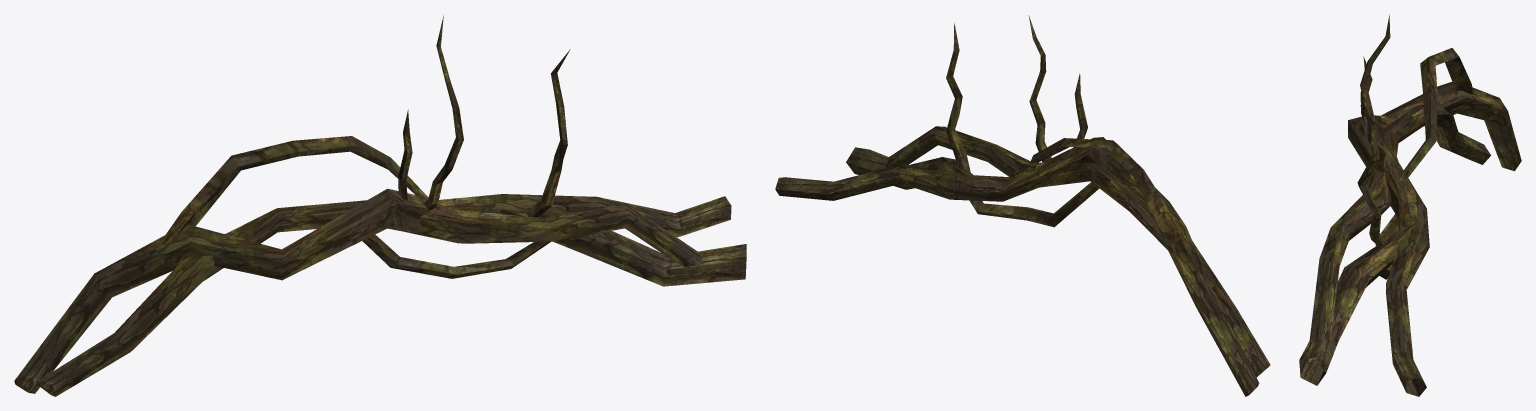
File: BossWood4.fbx
3 views of the same model, side by side, from view 1: azimuth 30°, elevation 25°; view 2: azimuth 150°, elevation 25°; view 3: azimuth 270°, elevation 25° (orthographic). The views are drawn at different scales.
Parts seen in each view (by area): view 1: BossWood4; view 2: BossWood4; view 3: BossWood4.
Boxes of the visible parts, bbox=[...] form: BossWood4: bbox=[14, 14, 746, 396]; BossWood4: bbox=[775, 15, 1270, 396]; BossWood4: bbox=[1299, 14, 1521, 396].
Bounding box in the file's own units: 561 × 283 × 186.
